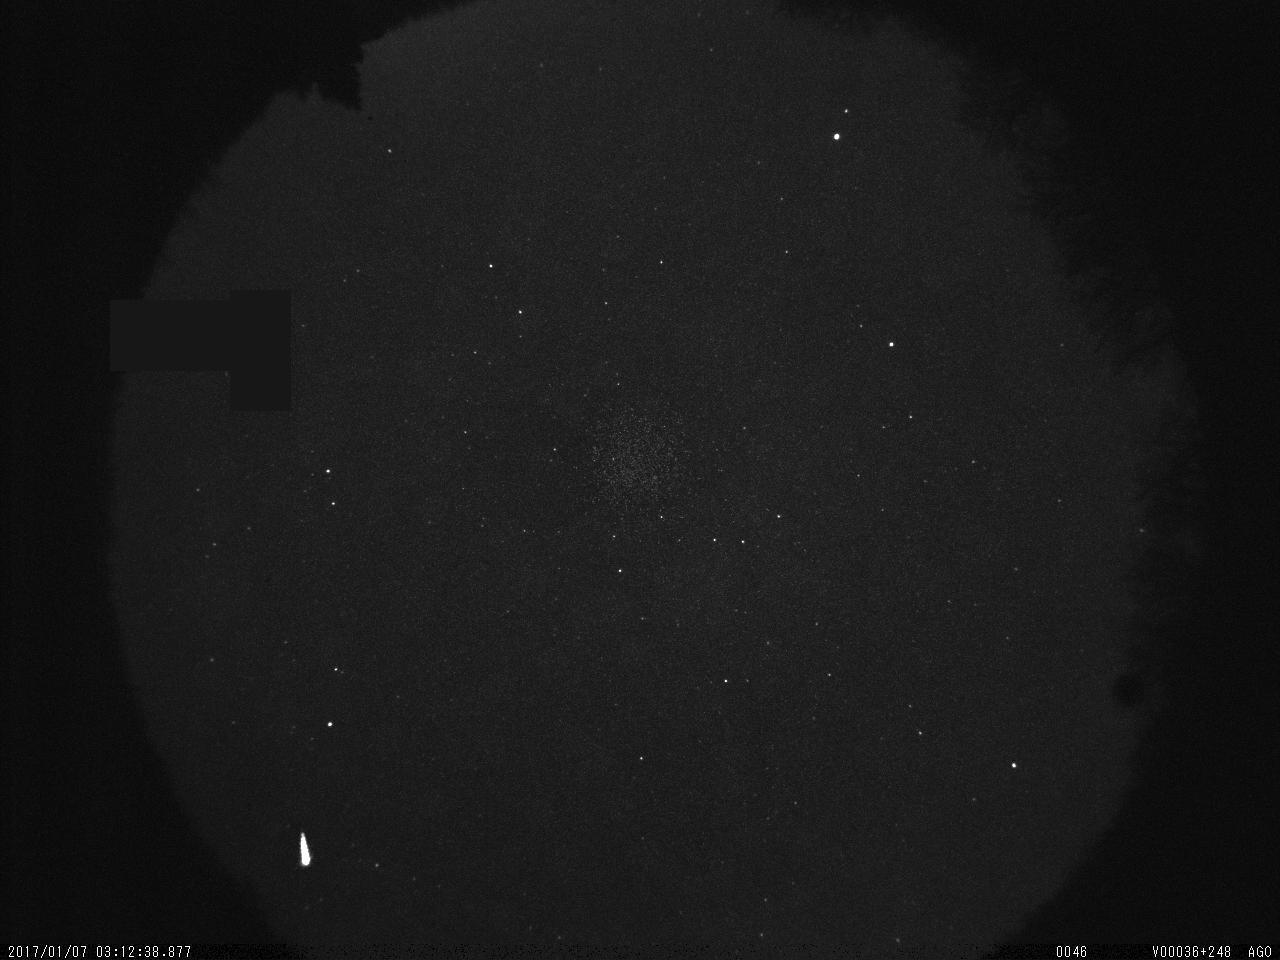meteor: (280, 814, 335, 881)
